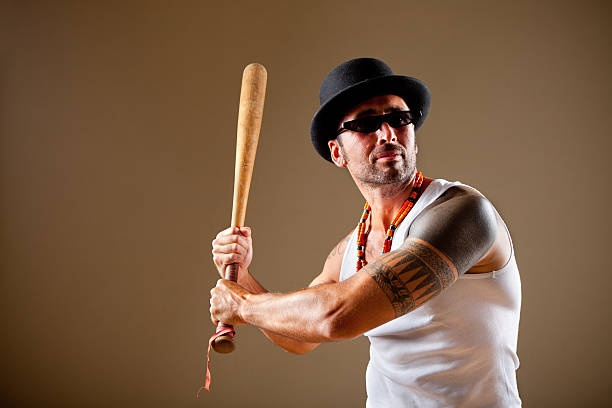bita: (209, 57, 273, 351)
